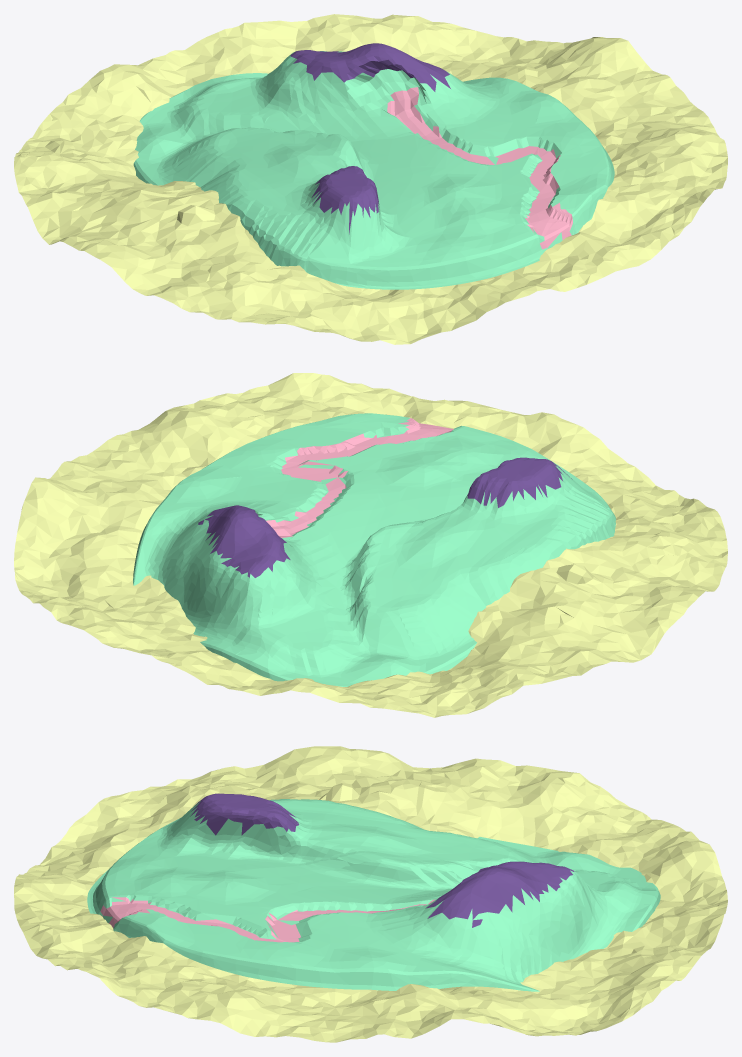
Rendered from island.fbx.
The picture shows the model from 3 angles, top to bottom: view 1: azimuth 30°, elevation 25°; view 2: azimuth 150°, elevation 25°; view 3: azimuth 270°, elevation 25°; orthographic projection. The views are drawn at different scales.
Parts seen in each view (by area): view 1: Plane.001; view 2: Plane.001; view 3: Plane.001.
Boxes of the visible parts, bbox=[...] form: Plane.001: bbox=[14, 14, 727, 344]; Plane.001: bbox=[14, 373, 727, 717]; Plane.001: bbox=[14, 746, 727, 1042].
Bounding box in the file's own units: 659 × 100 × 659.
